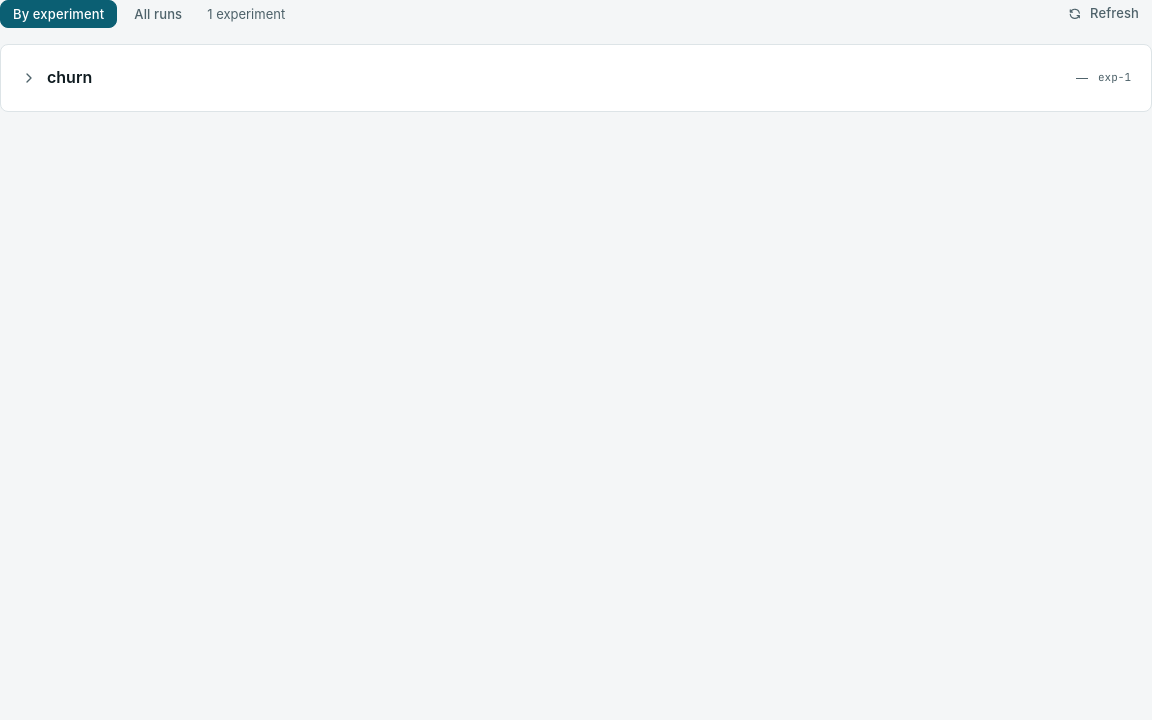
Experiments › All runs › compares the runs ticked in the table
Click the button "All runs".
click(158, 14)  # box [121,0,195,28]
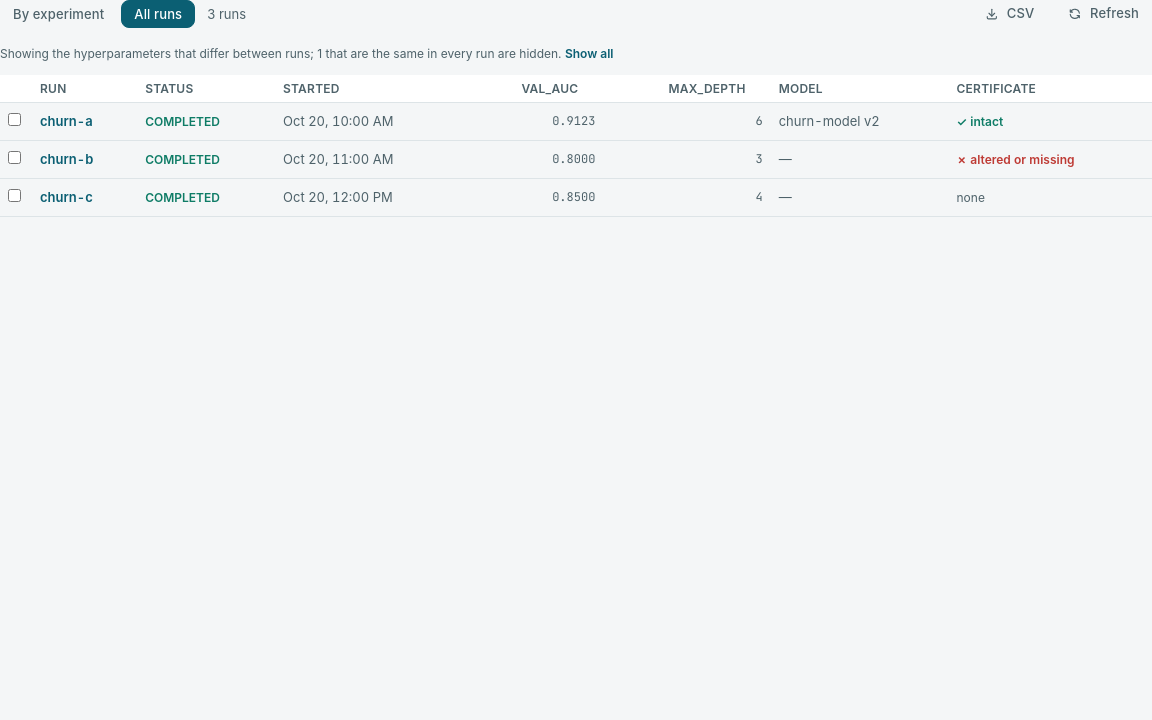
Click the checkbox named "Select run churn-a for comparison".
click(14, 120)  # box [8,113,21,126]
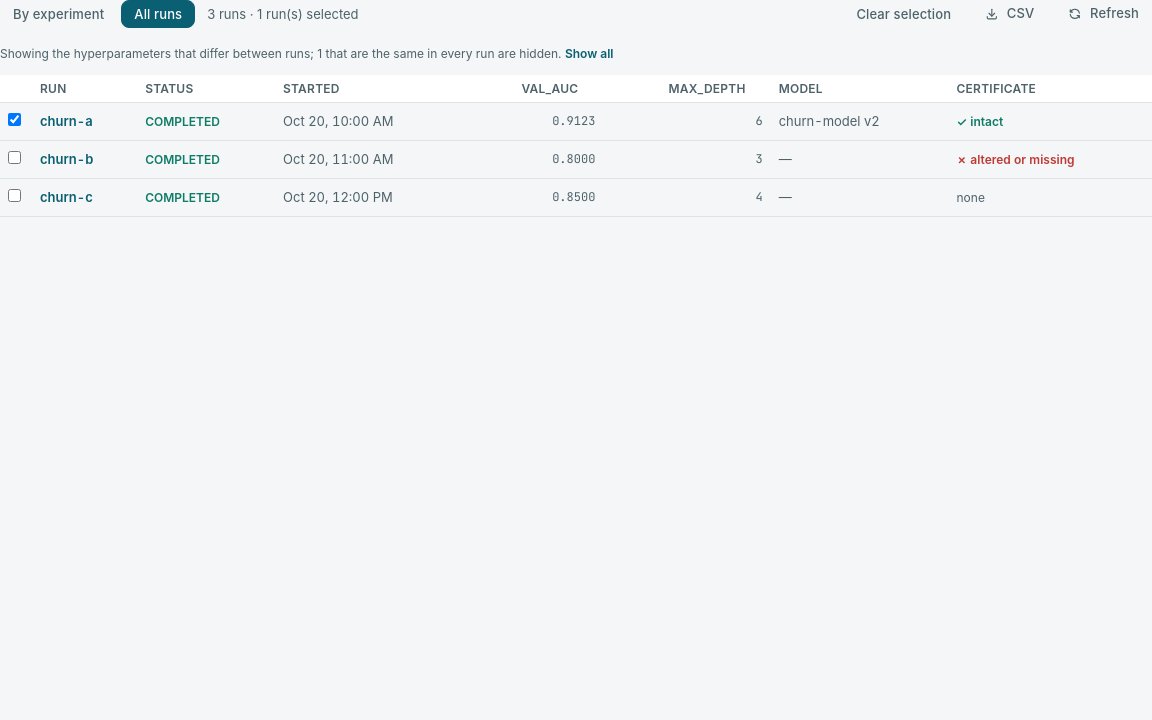
Click the checkbox named "Select run churn-b for comparison".
click(14, 158)  # box [8,151,21,164]
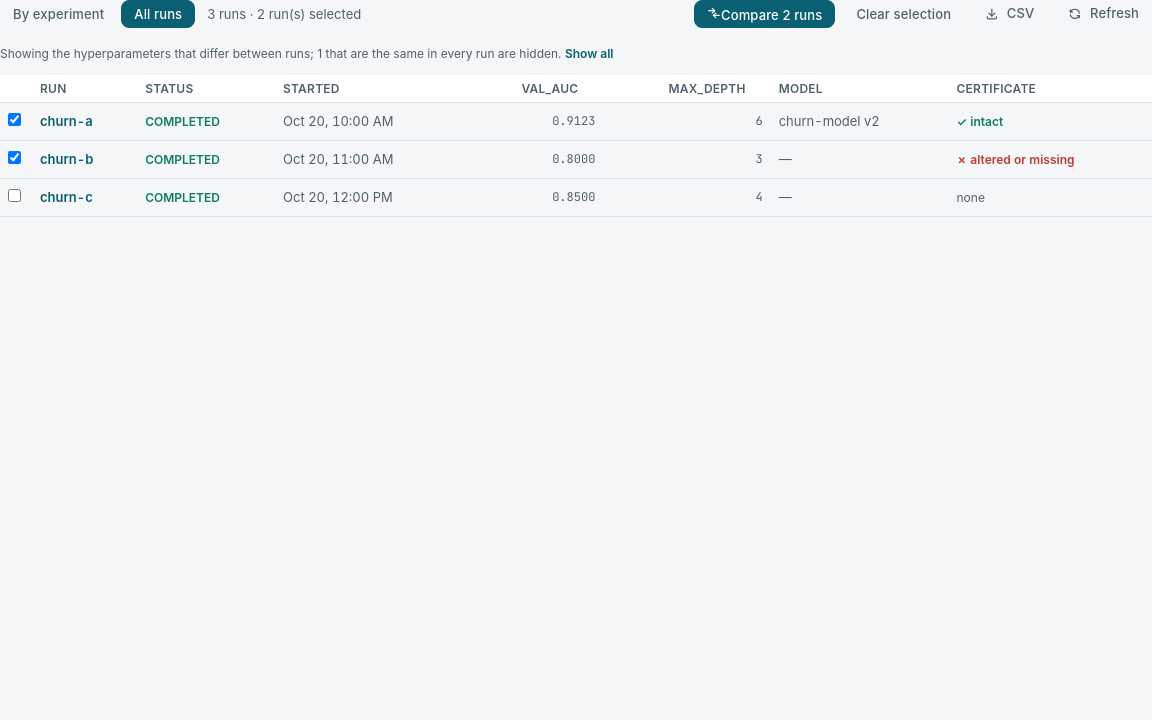
Click the button "Compare 2 runs".
click(765, 14)  # box [694,0,835,28]
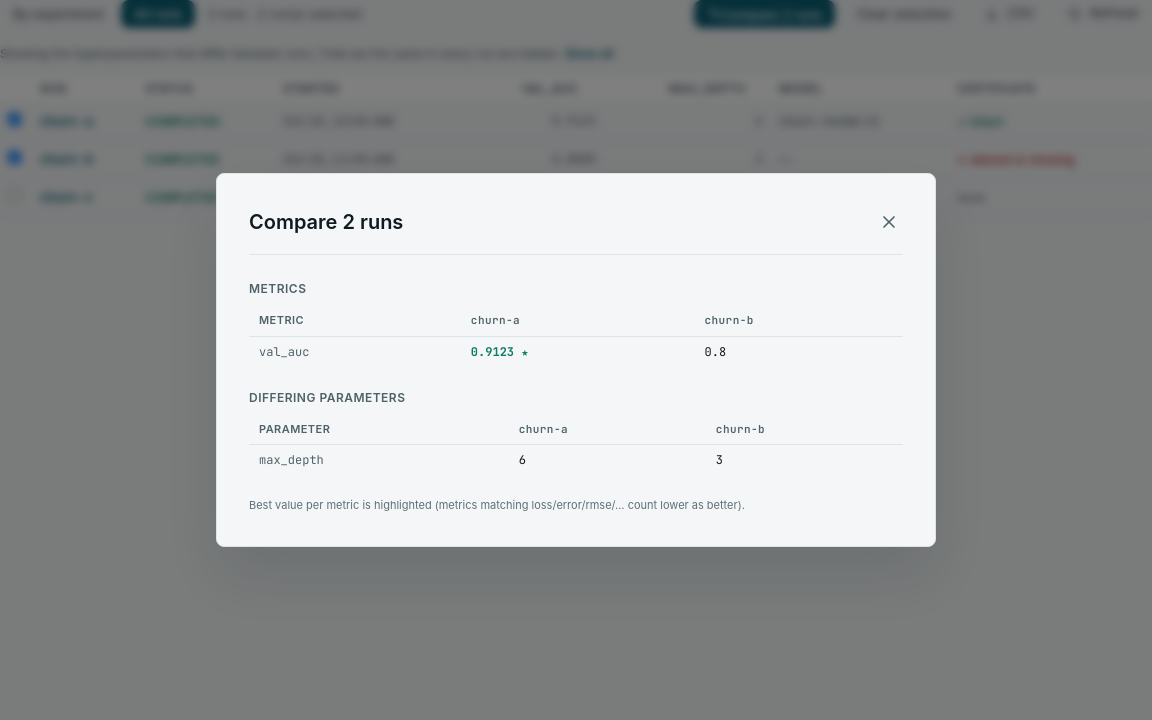
Expected: the text "val_auc" is shown, [249,336,461,368]
Expected: the text "max_depth" is shown, [249,445,509,477]
